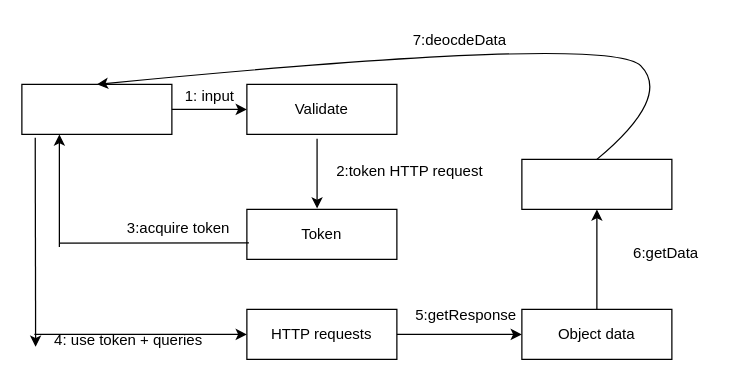
Some shapes in this 738 by 381 pixel diagram are drawn without their labels. Each missing label, with the box of its shape:
Client data: (21, 83, 172, 134)
Decoder: (521, 158, 672, 209)
